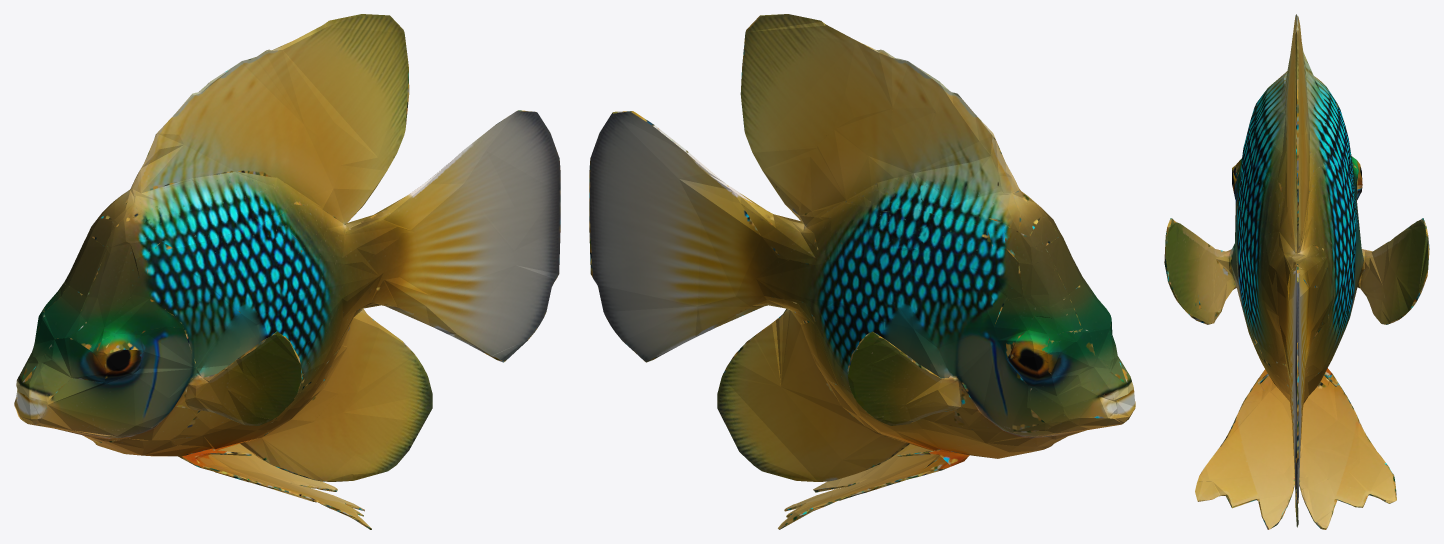
File: fish_0011_smpl23_resized.glb
3 renders of one model, left to right at view 1: azimuth 30°, elevation 25°; view 2: azimuth 150°, elevation 25°; view 3: azimuth 270°, elevation 25°, orthographic.
Visible parts, largest first — view 1: world; view 2: world; view 3: world.
Boxes of the visible parts, bbox=[...] form: world: bbox=[14, 14, 560, 529]; world: bbox=[589, 14, 1135, 529]; world: bbox=[1164, 14, 1429, 529].
Bounding box in the file's own units: 1.99 × 1.71 × 0.8579.
1 material, 1 textured.
